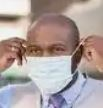with_facemask: (25, 54, 71, 88)
